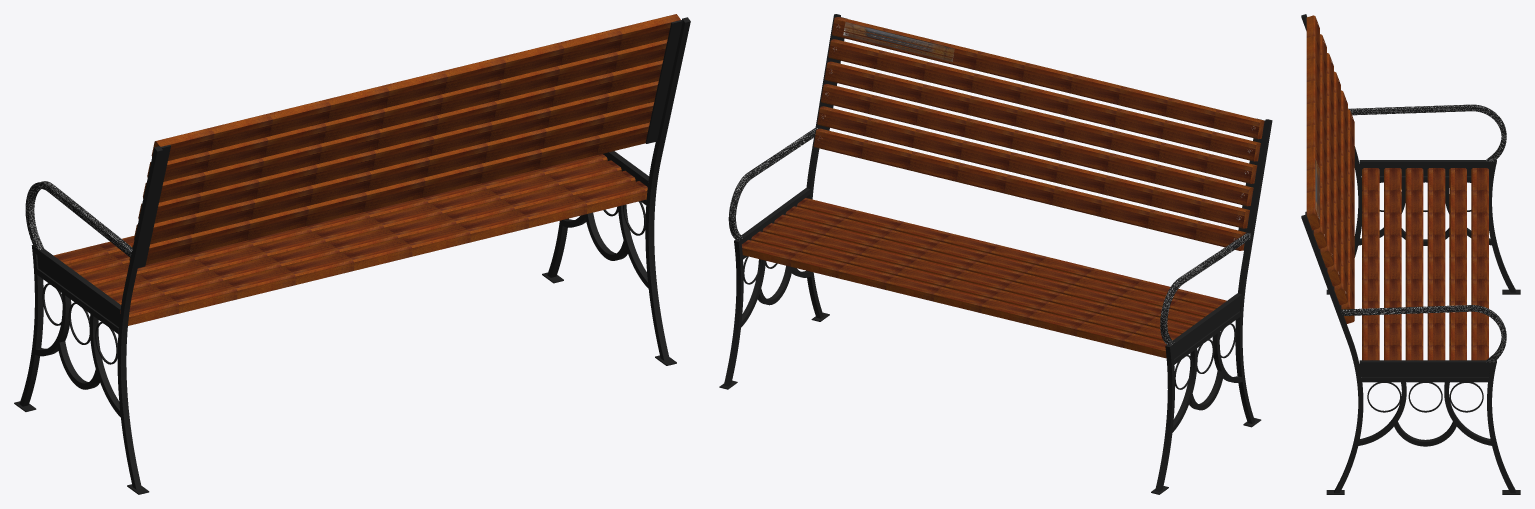
3 views of the same model, side by side, from view 1: azimuth 30°, elevation 25°; view 2: azimuth 150°, elevation 25°; view 3: azimuth 270°, elevation 25° (orthographic). The views are drawn at different scales.
Parts seen in each view (by area): view 1: mesh1_mesh1-geometry, mesh3_mesh3-geometry, mesh12_mesh12-geometry, mesh36_mesh36-geometry, mesh46_mesh46-geometry, mesh39_mesh39-geometry, mesh52_mesh52-geometry, mesh15_mesh15-geometry, mesh29_mesh29-geometry; view 2: mesh1_mesh1-geometry, mesh3_mesh3-geometry, mesh36_mesh36-geometry, mesh46_mesh46-geometry, mesh53_mesh53-geometry, mesh39_mesh39-geometry, mesh12_mesh12-geometry, mesh52_mesh52-geometry, mesh28_mesh28-geometry, mesh5_mesh5-geometry, mesh29_mesh29-geometry, mesh15_mesh15-geometry (+1 smaller); view 3: mesh3_mesh3-geometry, mesh1_mesh1-geometry, mesh22_mesh22-geometry, mesh12_mesh12-geometry, mesh15_mesh15-geometry, mesh28_mesh28-geometry, mesh52_mesh52-geometry, mesh46_mesh46-geometry, mesh5_mesh5-geometry, mesh29_mesh29-geometry, mesh17_mesh17-geometry, mesh36_mesh36-geometry (+2 smaller).
Boxes of the visible parts, x1=… form: mesh1_mesh1-geometry: x1=129, y1=14, x2=680, y2=264; mesh3_mesh3-geometry: x1=53, y1=154, x2=647, y2=325; mesh12_mesh12-geometry: x1=645, y1=17, x2=690, y2=360; mesh36_mesh36-geometry: x1=117, y1=145, x2=170, y2=489; mesh46_mesh46-geometry: x1=35, y1=248, x2=121, y2=333; mesh39_mesh39-geometry: x1=35, y1=293, x2=120, y2=416; mesh52_mesh52-geometry: x1=25, y1=181, x2=132, y2=257; mesh15_mesh15-geometry: x1=562, y1=204, x2=648, y2=288; mesh29_mesh29-geometry: x1=19, y1=245, x2=43, y2=406; mesh1_mesh1-geometry: x1=813, y1=17, x2=1264, y2=250; mesh3_mesh3-geometry: x1=742, y1=198, x2=1226, y2=358; mesh36_mesh36-geometry: x1=1235, y1=118, x2=1272, y2=423; mesh46_mesh46-geometry: x1=1172, y1=293, x2=1241, y2=364; mesh53_mesh53-geometry: x1=843, y1=21, x2=954, y2=61; mesh39_mesh39-geometry: x1=1172, y1=331, x2=1242, y2=432; mesh12_mesh12-geometry: x1=806, y1=14, x2=847, y2=318; mesh52_mesh52-geometry: x1=1160, y1=233, x2=1251, y2=345; mesh28_mesh28-geometry: x1=728, y1=127, x2=819, y2=240; mesh5_mesh5-geometry: x1=723, y1=239, x2=743, y2=386; mesh29_mesh29-geometry: x1=1155, y1=345, x2=1174, y2=491; mesh15_mesh15-geometry: x1=741, y1=259, x2=811, y2=327; mesh3_mesh3-geometry: x1=1362, y1=168, x2=1488, y2=360; mesh1_mesh1-geometry: x1=1306, y1=15, x2=1354, y2=323; mesh22_mesh22-geometry: x1=1359, y1=360, x2=1491, y2=382; mesh12_mesh12-geometry: x1=1301, y1=211, x2=1363, y2=493; mesh15_mesh15-geometry: x1=1358, y1=382, x2=1491, y2=446; mesh28_mesh28-geometry: x1=1341, y1=305, x2=1506, y2=362; mesh52_mesh52-geometry: x1=1348, y1=104, x2=1506, y2=161; mesh46_mesh46-geometry: x1=1359, y1=160, x2=1491, y2=181; mesh5_mesh5-geometry: x1=1487, y1=360, x2=1516, y2=493; mesh29_mesh29-geometry: x1=1489, y1=160, x2=1516, y2=292; mesh17_mesh17-geometry: x1=1367, y1=382, x2=1483, y2=412; mesh36_mesh36-geometry: x1=1301, y1=14, x2=1361, y2=257.
Bounding box in the file's own units: 0.7884 × 0.5008 × 0.3571.
